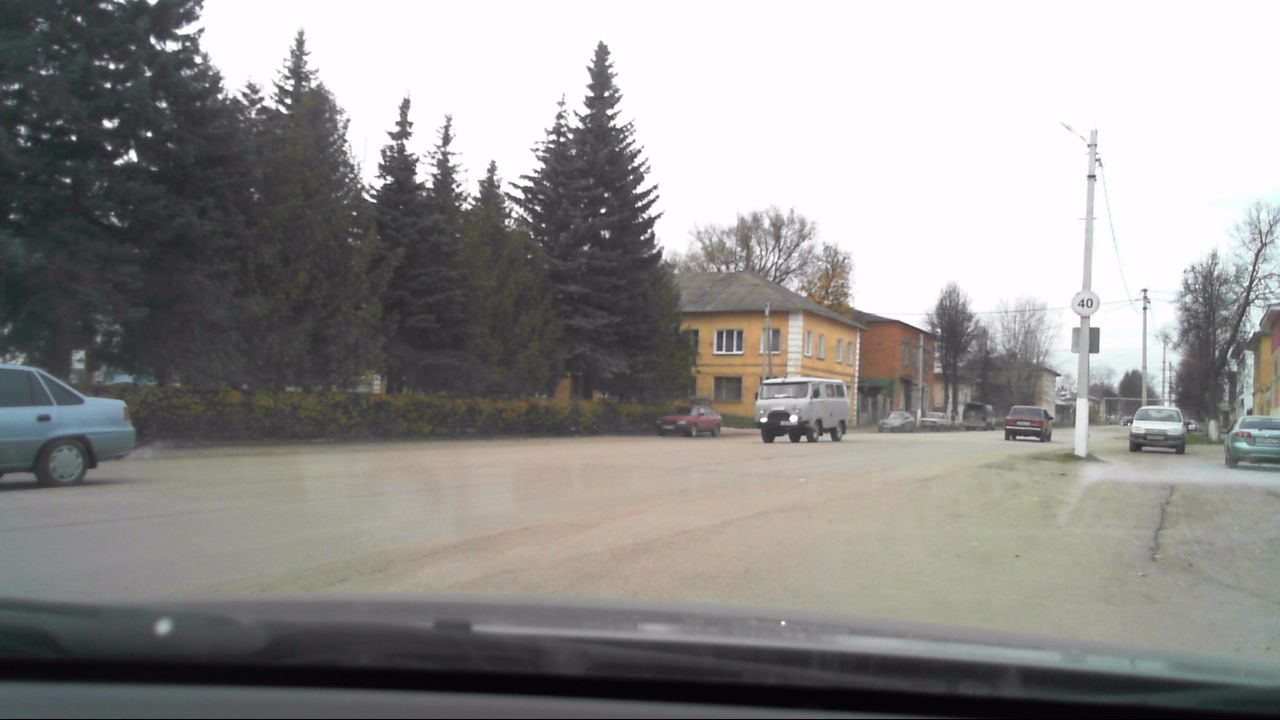speed_warning_40: (1070, 290, 1100, 319)
